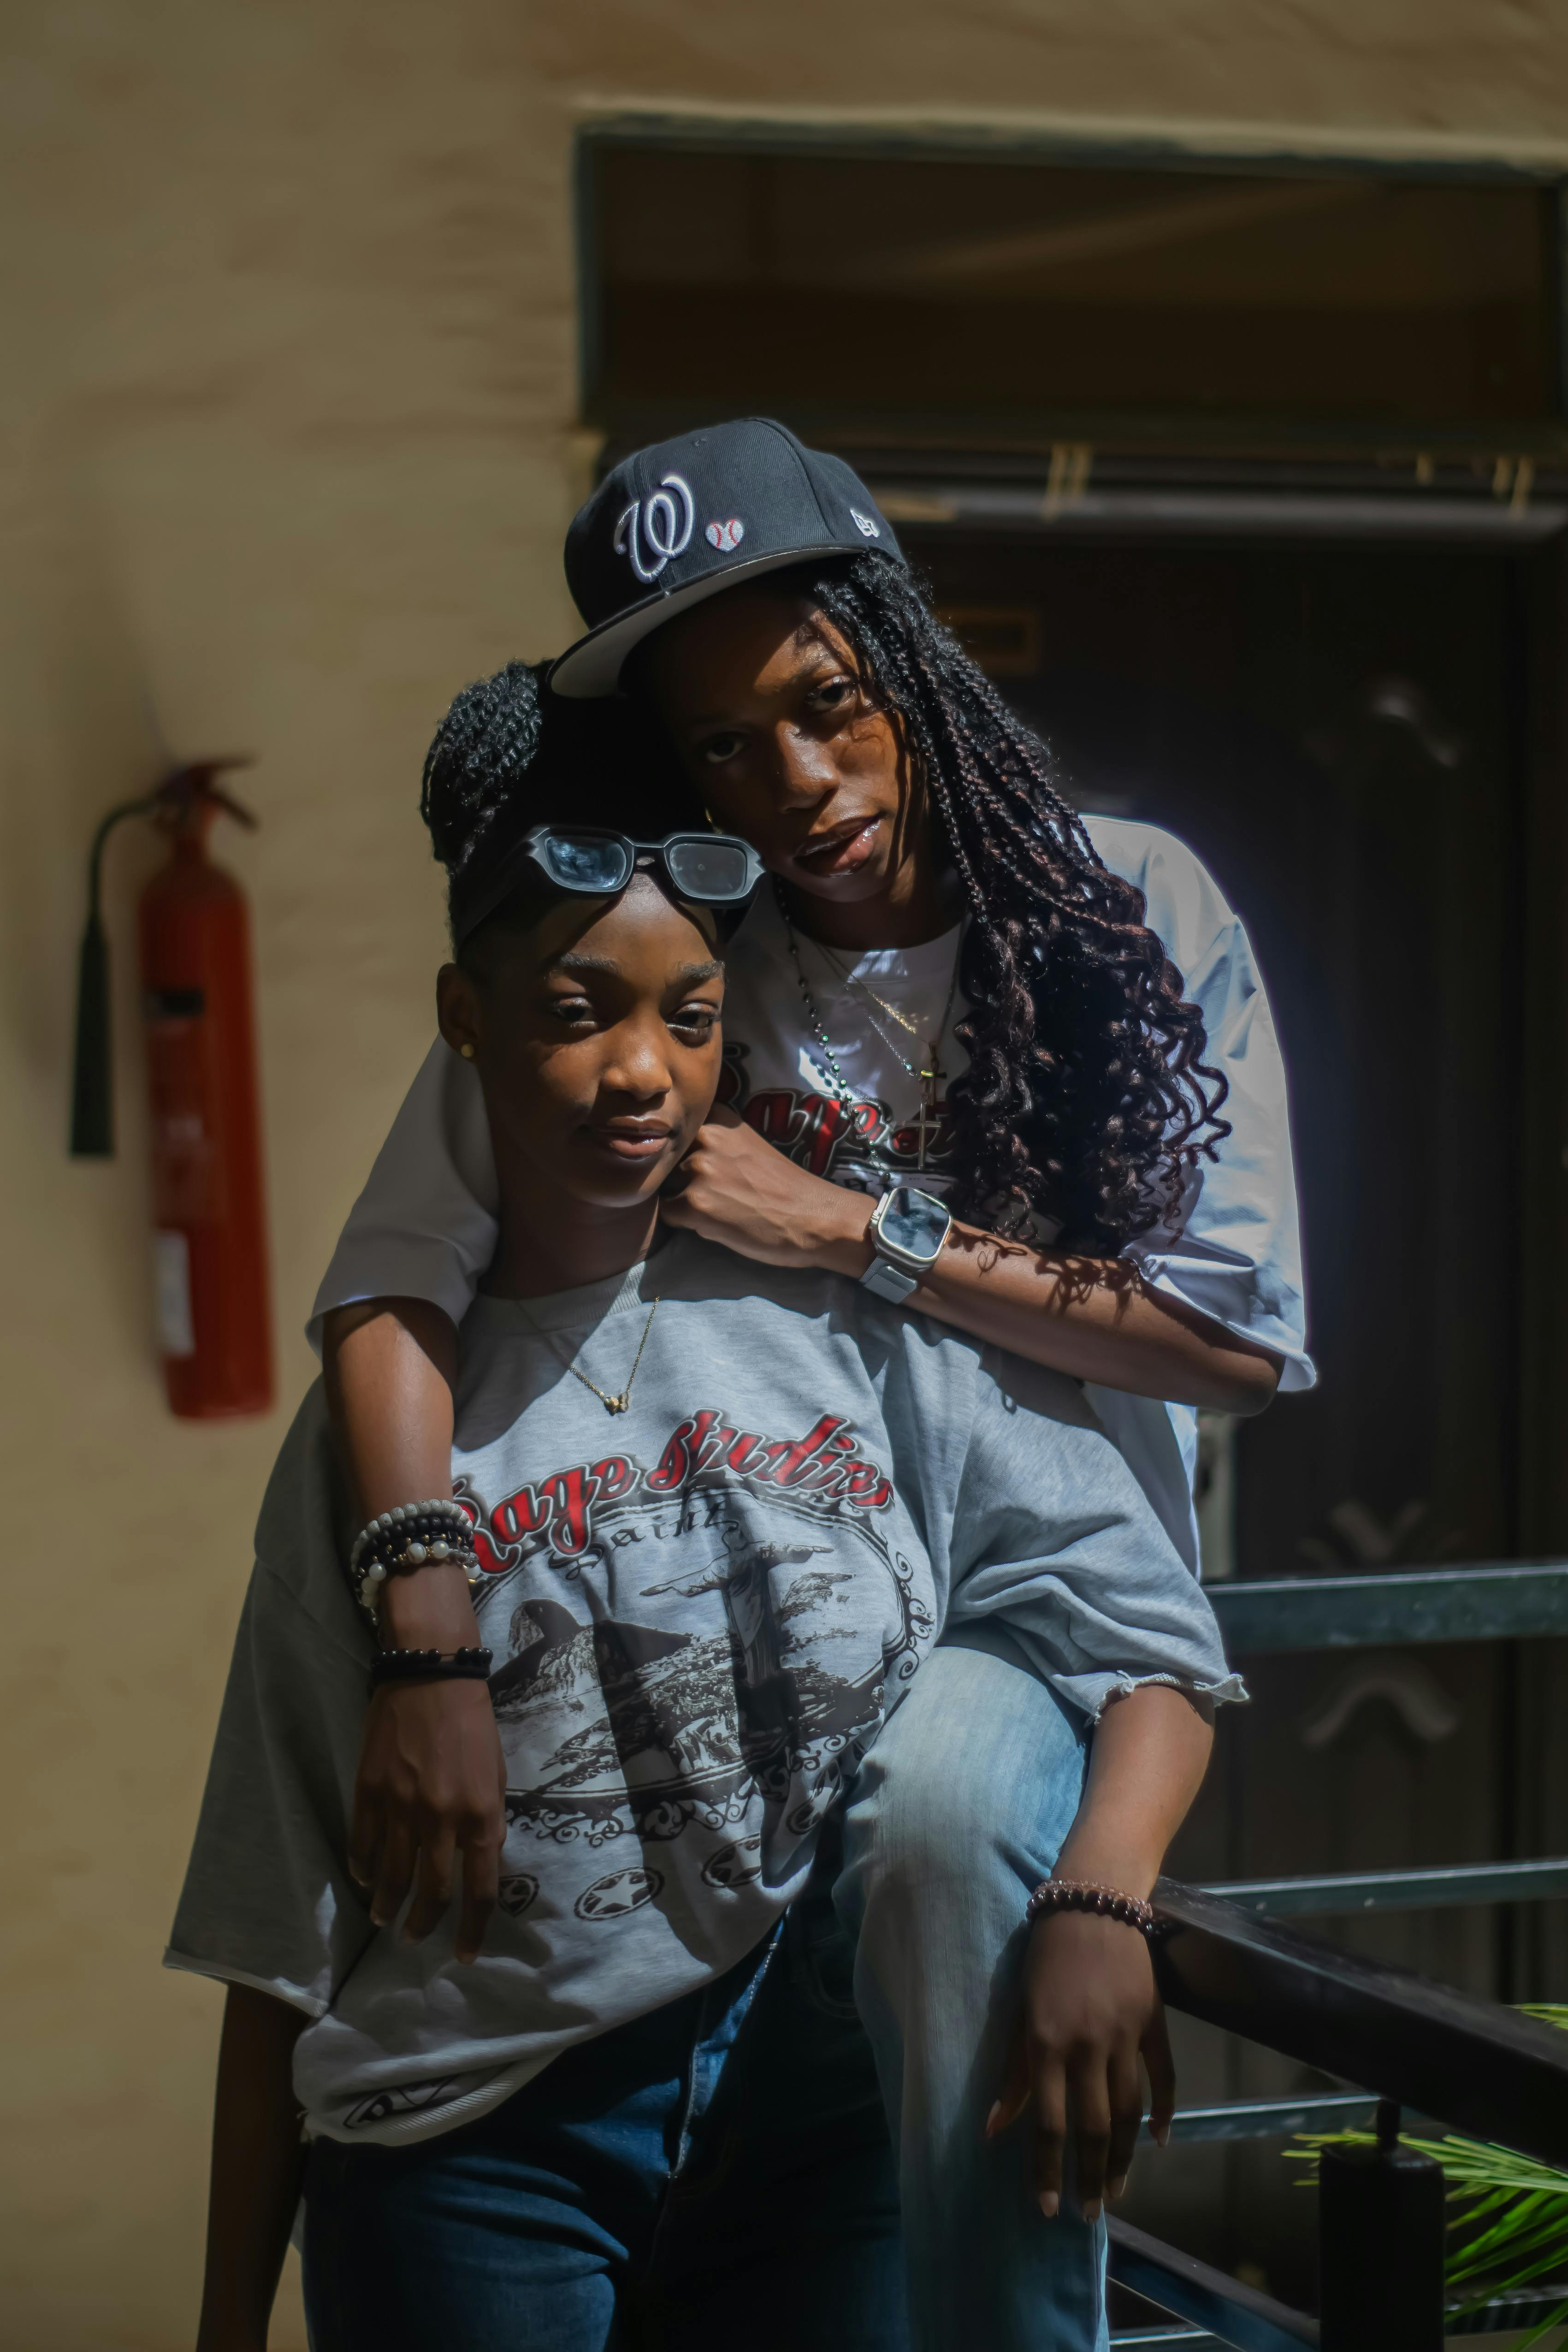extintor: (45, 724, 287, 1437)
